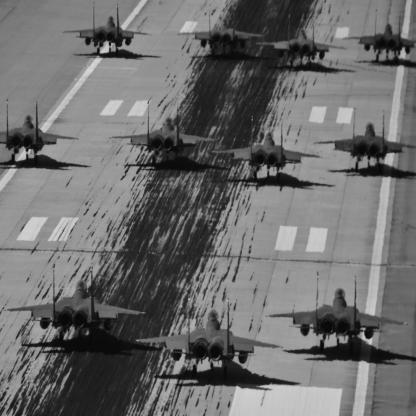F15: (137, 298, 285, 380), (267, 272, 410, 356), (6, 264, 147, 343), (212, 116, 324, 182), (110, 104, 220, 166), (315, 108, 416, 174), (1, 99, 80, 166), (63, 2, 153, 57), (257, 15, 348, 69), (178, 6, 268, 58), (342, 10, 416, 64)
